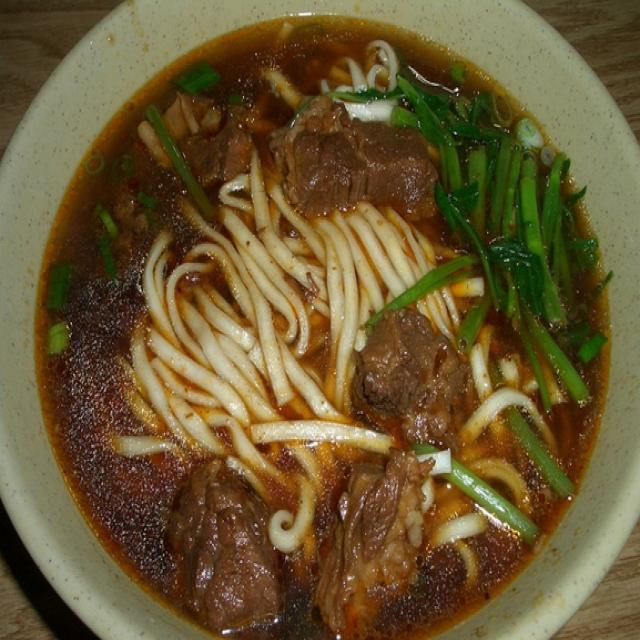面条主食: (23, 28, 618, 618)
